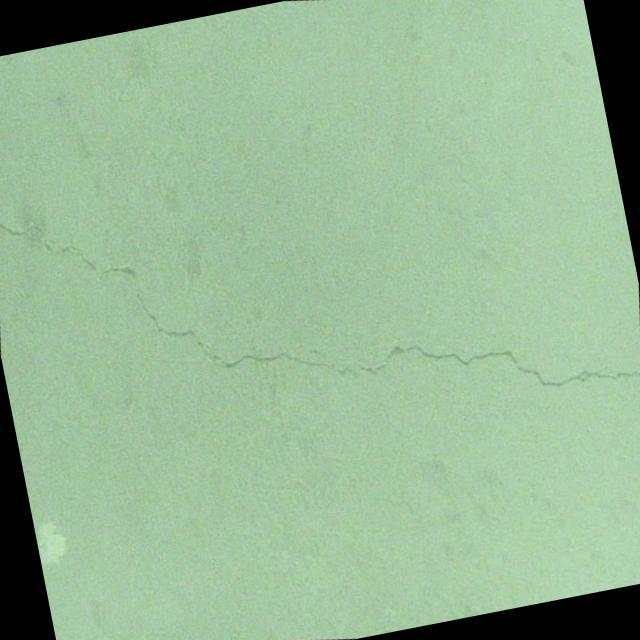crack: (0, 103, 640, 504)
